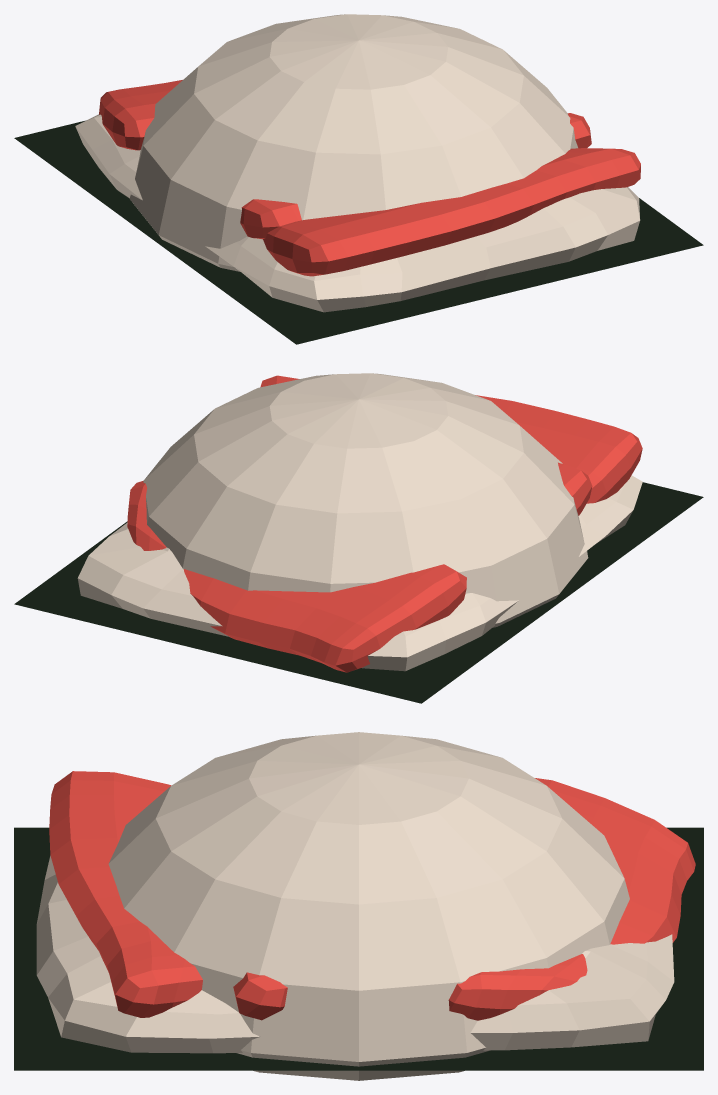
File: tunanori.glb
3 renders of one model, top to bottom at view 1: azimuth 30°, elevation 25°; view 2: azimuth 150°, elevation 25°; view 3: azimuth 270°, elevation 25°, orthographic. The views are drawn at different scales.
Visible parts, largest first — view 1: cookedricecopy, choppedsalmon, spreadrice, nori; view 2: cookedricecopy, choppedsalmon, nori, spreadrice; view 3: cookedricecopy, choppedsalmon, spreadrice, nori.
Part boxes in pixels (box(x1,y1,x2,y2)): cookedricecopy: box(129, 14, 577, 271); choppedsalmon: box(99, 80, 640, 276); spreadrice: box(75, 114, 640, 312); nori: box(14, 120, 703, 344); cookedricecopy: box(143, 373, 588, 627); choppedsalmon: box(127, 375, 642, 672); nori: box(14, 482, 703, 703); spreadrice: box(77, 475, 642, 671); cookedricecopy: box(108, 732, 629, 1080); choppedsalmon: box(49, 771, 695, 1020); spreadrice: box(36, 855, 674, 1053); nori: box(14, 827, 703, 1070).
Bounding box in the file's own units: 2 × 0.7894 × 2.4.
